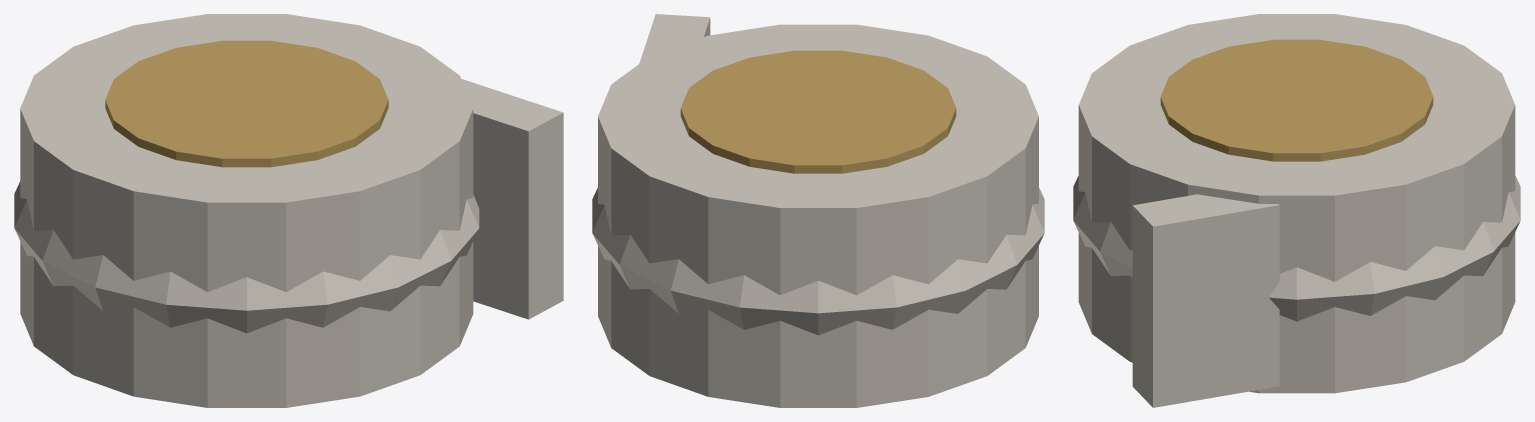
The model's file is tape_roll.glb.
3 renders of one model, left to right at view 1: azimuth 30°, elevation 25°; view 2: azimuth 150°, elevation 25°; view 3: azimuth 270°, elevation 25°, orthographic. The views are drawn at different scales.
Visible parts, largest first — view 1: tape_roll; view 2: tape_roll; view 3: tape_roll.
Part boxes in pixels (left/top/right/bottom): tape_roll: left=14, top=14, right=563, bottom=407; tape_roll: left=592, top=14, right=1044, bottom=407; tape_roll: left=1073, top=14, right=1520, bottom=407.
Size of the model in its own units: 0.1092 by 0.052 by 0.0985.
